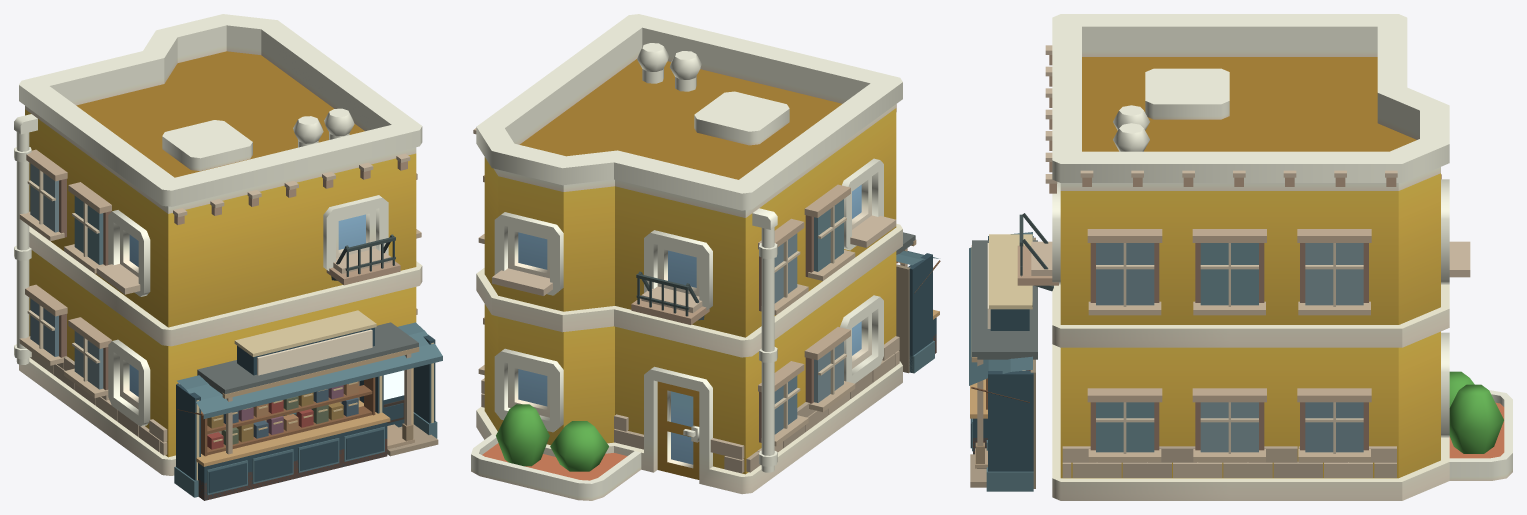
File: shop-c-yellow.glb
3 views of the same model, side by side, from view 1: azimuth 30°, elevation 25°; view 2: azimuth 150°, elevation 25°; view 3: azimuth 270°, elevation 25° (orthographic). The views are drawn at different scales.
Parts seen in each view (by area): view 1: building-c, BOOKS_Joinery, Masonry_and_stairwell_windows, Residential_Portico, Upper_floor_balconies_and_carved_cornice; view 2: building-c, Masonry_and_stairwell_windows, Upper_floor_balconies_and_carved_cornice, BOOKS_Joinery; view 3: building-c, Masonry_and_stairwell_windows, BOOKS_Joinery, Upper_floor_balconies_and_carved_cornice, Residential_Portico.
Boxes of the visible parts, left/top/right/bottom form: building-c: left=14, top=14, right=422, bottom=475; BOOKS_Joinery: left=174, top=310, right=442, bottom=500; Masonry_and_stairwell_windows: left=19, top=149, right=421, bottom=455; Residential_Portico: left=197, top=322, right=419, bottom=454; Upper_floor_balconies_and_carved_cornice: left=96, top=153, right=410, bottom=294; building-c: left=471, top=14, right=902, bottom=500; Masonry_and_stairwell_windows: left=478, top=175, right=899, bottom=473; Upper_floor_balconies_and_carved_cornice: left=473, top=104, right=896, bottom=324; BOOKS_Joinery: left=896, top=251, right=940, bottom=373; building-c: left=1052, top=14, right=1512, bottom=500; Masonry_and_stairwell_windows: left=1062, top=229, right=1396, bottom=477; BOOKS_Joinery: left=969, top=232, right=1035, bottom=491; Upper_floor_balconies_and_carved_cornice: left=1017, top=45, right=1470, bottom=291; Residential_Portico: left=971, top=240, right=1037, bottom=468.
Size of the model in its own units: 0.9257 by 0.8936 by 1.29.
Materials: 52 (1 with a texture image).
